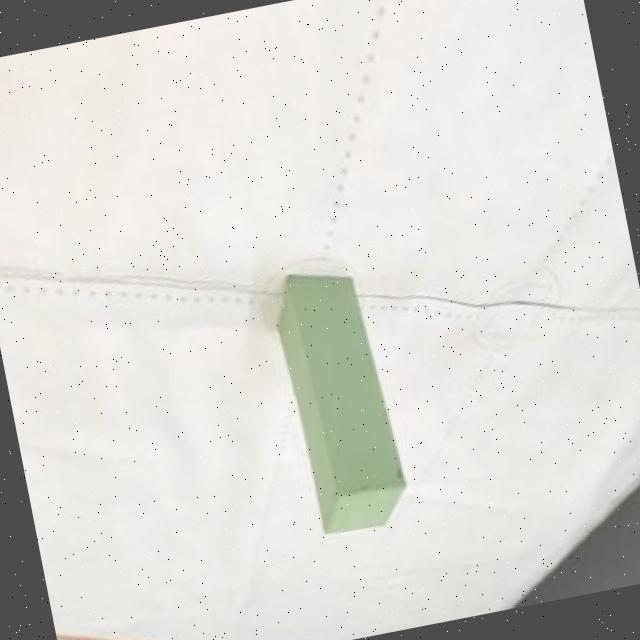greenbox: (262, 259, 413, 542)
